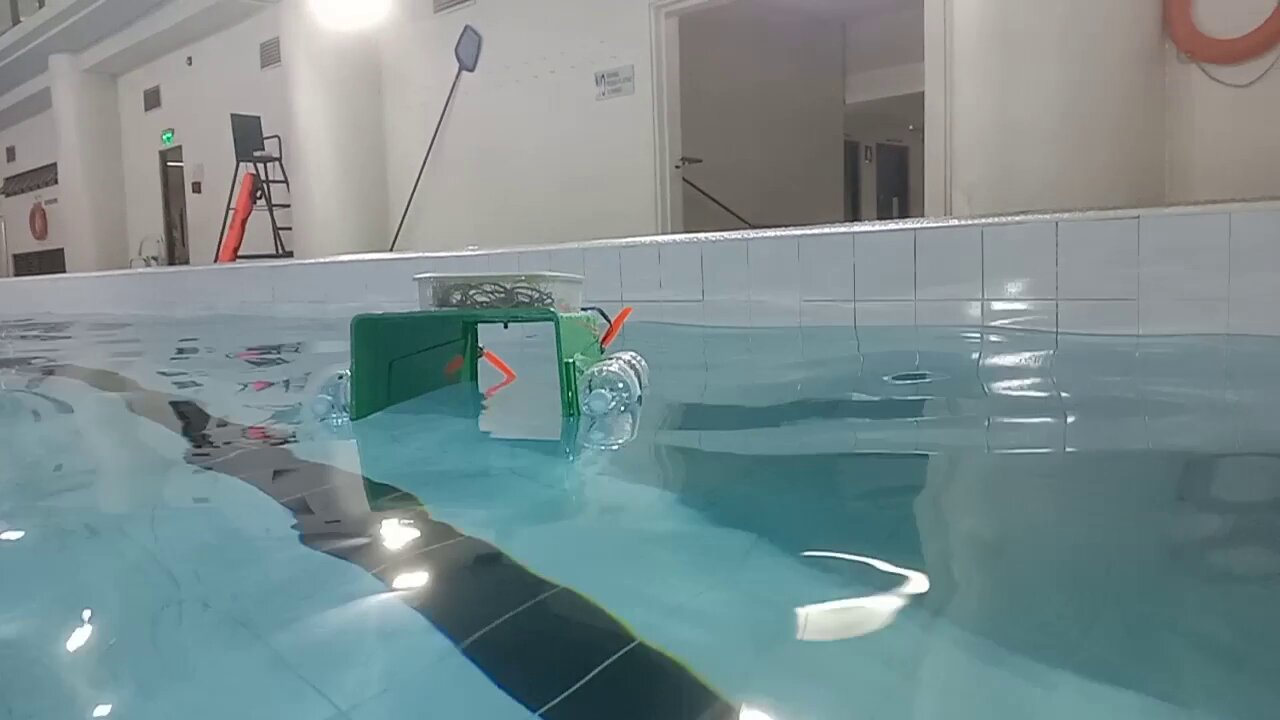drone: (308, 268, 652, 428)
